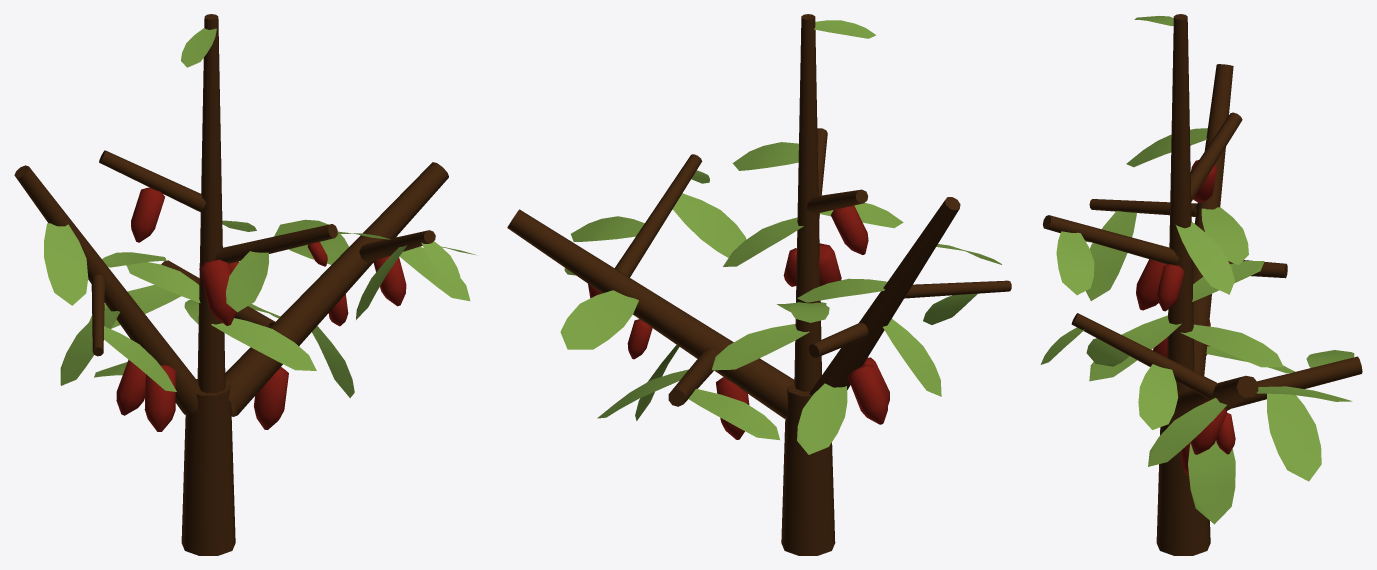
File: CacaoPlant 1.FBX
3 views of the same model, side by side, from view 1: azimuth 30°, elevation 25°; view 2: azimuth 150°, elevation 25°; view 3: azimuth 270°, elevation 25° (orthographic).
Visible parts, largest first — view 1: CacaoPlant; view 2: CacaoPlant; view 3: CacaoPlant.
Part boxes in pixels (box(x1,y1,x2,y2)): CacaoPlant: box(14, 14, 476, 555); CacaoPlant: box(507, 14, 1011, 555); CacaoPlant: box(1040, 14, 1362, 555).
Size of the model in its own units: 38.88 by 44.29 by 24.45.
